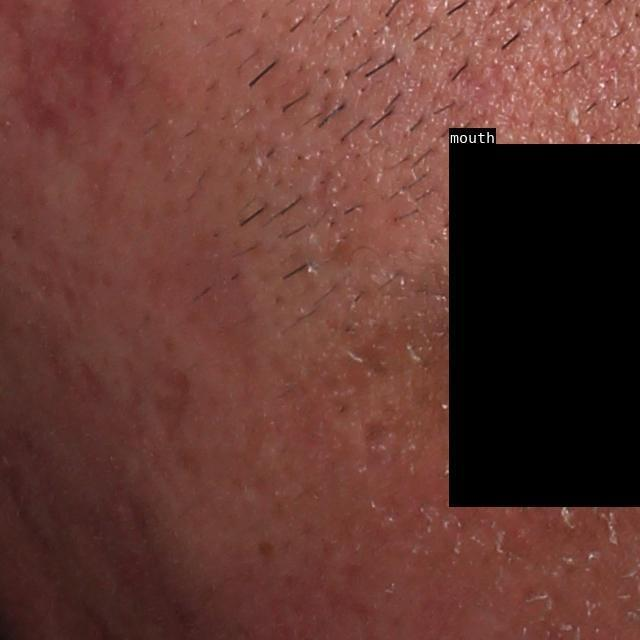atrophic_scar: (119, 482, 182, 619), (145, 365, 210, 484)
